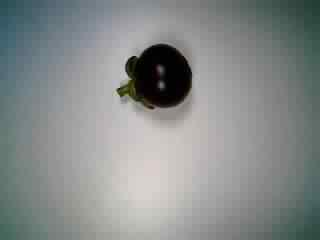mangosteen: (112, 39, 193, 111)
